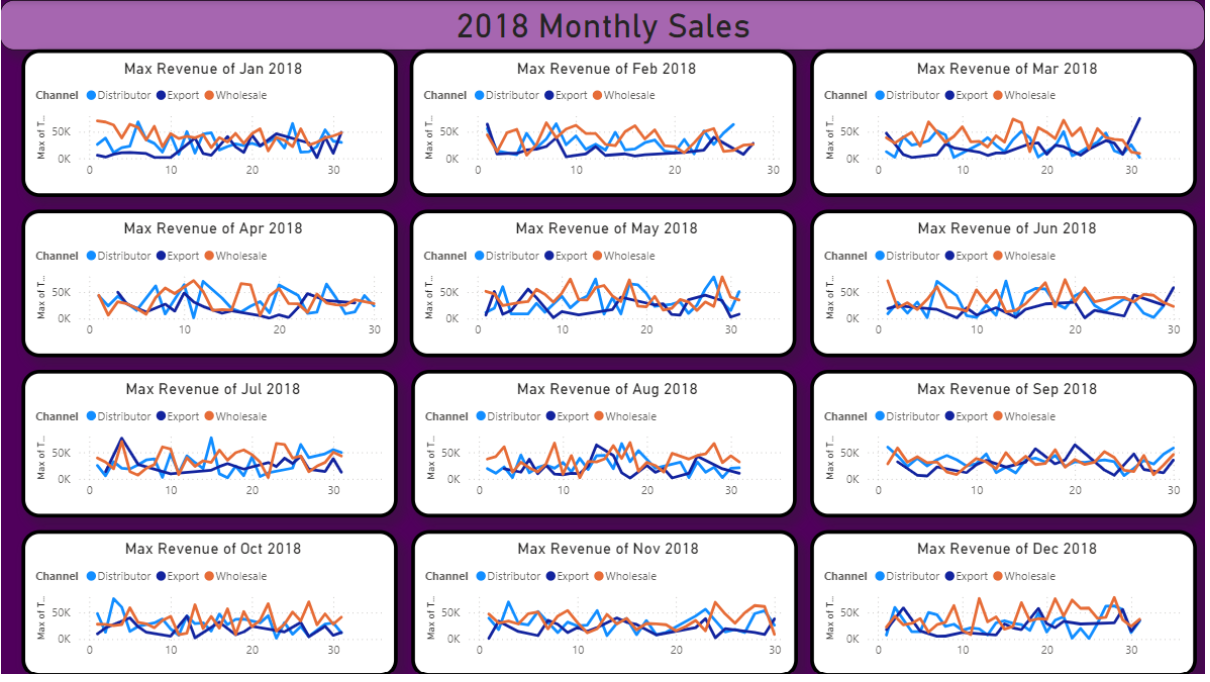

Layout of this report page (visuals, bound fields, positions):
{"tool":"powerbi","page":{"name":"Page 4","canvas":[1280,720],"ordinal":3},"visuals":[{"type":"textbox","title":"2018 Monthly Sales","box":[0,0,1279.4,52.9],"z":0},{"type":"lineChart","title":"Max Revenue of Jan 2018 ","fields":{"Category":["Sales2018_Jan.OrderDate.Variation.Date Hierarchy.Day"],"Y":["Max(Sales2018_Jan.Total Revenue)"],"Series":["Sales2018_Jan.Channel"]},"box":[22.9,52.3,399,157],"z":1000},{"type":"lineChart","title":"Max Revenue of Apr 2018","fields":{"Series":["Sales2018_Apr.Channel"],"Y":["Max(Sales2018_Apr.Total Revenue)"],"Category":["Sales2018_Apr.OrderDate.Variation.Date Hierarchy.Day"]},"box":[22.9,222.4,399,157],"z":2000},{"type":"lineChart","title":"Max Revenue of Feb 2018","fields":{"Category":["Sales2018_Feb.OrderDate.Variation.Date Hierarchy.Day"],"Y":["Max(Sales2018_Feb.Total Revenue)"],"Series":["Sales2018_Feb.Channel"]},"box":[435,52.3,410.5,157],"z":3000},{"type":"lineChart","title":"Max Revenue of Mar 2018","fields":{"Series":["Sales2018_Mar.Channel"],"Y":["Max(Sales2018_Mar.Total Revenue)"],"Category":["Sales2018_Mar.OrderDate.Variation.Date Hierarchy.Day"]},"box":[860.2,52.3,410.5,157],"z":4000},{"type":"lineChart","title":"Max Revenue of Jul 2018","fields":{"Category":["Sales2018_Jul.OrderDate.Variation.Date Hierarchy.Day"],"Y":["Max(Sales2018_Jul.Total Revenue)"],"Series":["Sales2018_Jul.Channel"]},"box":[22.9,392.5,399,157],"z":5000},{"type":"lineChart","title":"Max Revenue of May 2018","fields":{"Series":["Sales2018_May.Channel"],"Y":["Max(Sales2018_May.Total Revenue)"],"Category":["Sales2018_May.OrderDate.Variation.Date Hierarchy.Day"]},"box":[435,222.4,410.5,157],"z":6000},{"type":"lineChart","title":"Max Revenue of Jun 2018","fields":{"Series":["Sales2018_Jun.Channel"],"Y":["Max(Sales2018_Jun.Total Revenue)"],"Category":["Sales2018_Jun.OrderDate.Variation.Date Hierarchy.Day"]},"box":[860.2,222.4,410.5,157],"z":7000},{"type":"lineChart","title":"Max Revenue of Aug 2018","fields":{"Series":["Sales2018_Aug.Channel"],"Y":["Max(Sales2018_Aug.Total Revenue)"],"Category":["Sales2018_Aug.OrderDate.Variation.Date Hierarchy.Day"]},"box":[436.7,392.5,408.9,157],"z":8000},{"type":"lineChart","title":"Max Revenue of Sep 2018","fields":{"Series":["Sales2018_Sep.Channel"],"Y":["Max(Sales2018_Sep.Total Revenue)"],"Category":["Sales2018_Sep.OrderDate.Variation.Date Hierarchy.Day"]},"box":[860.2,392.5,410.5,157],"z":9000},{"type":"lineChart","title":"Max Revenue of Oct 2018","fields":{"Series":["Sales2018_Oct.Channel"],"Y":["Max(Sales2018_Oct.Total Revenue)"],"Category":["Sales2018_Oct.OrderDate.Variation.Date Hierarchy.Day"]},"box":[22.9,562.6,399,157],"z":10000},{"type":"lineChart","title":"Max Revenue of Nov 2018","fields":{"Series":["Sales2018_Nov.Channel"],"Y":["Max(Sales2018_Nov.Total Revenue)"],"Category":["Sales2018_Nov.OrderDate.Variation.Date Hierarchy.Day"]},"box":[436.7,562.6,410.5,157],"z":11000},{"type":"lineChart","title":"Max Revenue of Dec 2018","fields":{"Category":["Sales2018_Dec.OrderDate.Variation.Date Hierarchy.Day"],"Y":["Max(Sales2018_Dec.Total Revenue)"],"Series":["Sales2018_Dec.Channel"]},"box":[860.2,562.6,410.5,157],"z":12000}]}

Visuals, with their boxes in screenshot pixels (x1, y1, x2, y2), scaled from the page's 1280x720 canvas onto the 1210x682 screenshot:
"2018 Monthly Sales" textbox: [0,0,1209,50]
"Max Revenue of Jan 2018 " lineChart: [22,50,399,198]
"Max Revenue of Apr 2018" lineChart: [22,211,399,359]
"Max Revenue of Feb 2018" lineChart: [411,50,799,198]
"Max Revenue of Mar 2018" lineChart: [813,50,1201,198]
"Max Revenue of Jul 2018" lineChart: [22,372,399,520]
"Max Revenue of May 2018" lineChart: [411,211,799,359]
"Max Revenue of Jun 2018" lineChart: [813,211,1201,359]
"Max Revenue of Aug 2018" lineChart: [413,372,799,520]
"Max Revenue of Sep 2018" lineChart: [813,372,1201,520]
"Max Revenue of Oct 2018" lineChart: [22,533,399,681]
"Max Revenue of Nov 2018" lineChart: [413,533,801,681]
"Max Revenue of Dec 2018" lineChart: [813,533,1201,681]
